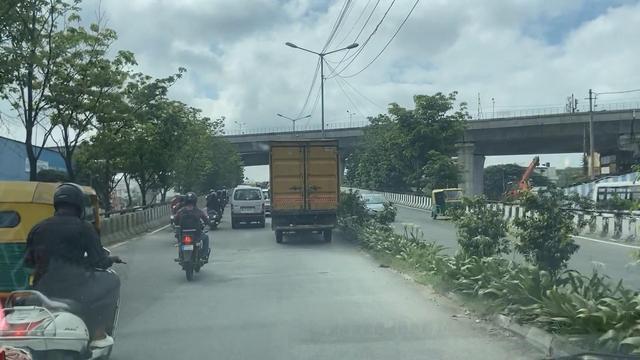HMV: (273, 143, 339, 244)
LMV: (5, 191, 117, 360), (172, 193, 206, 277), (228, 183, 265, 232)
